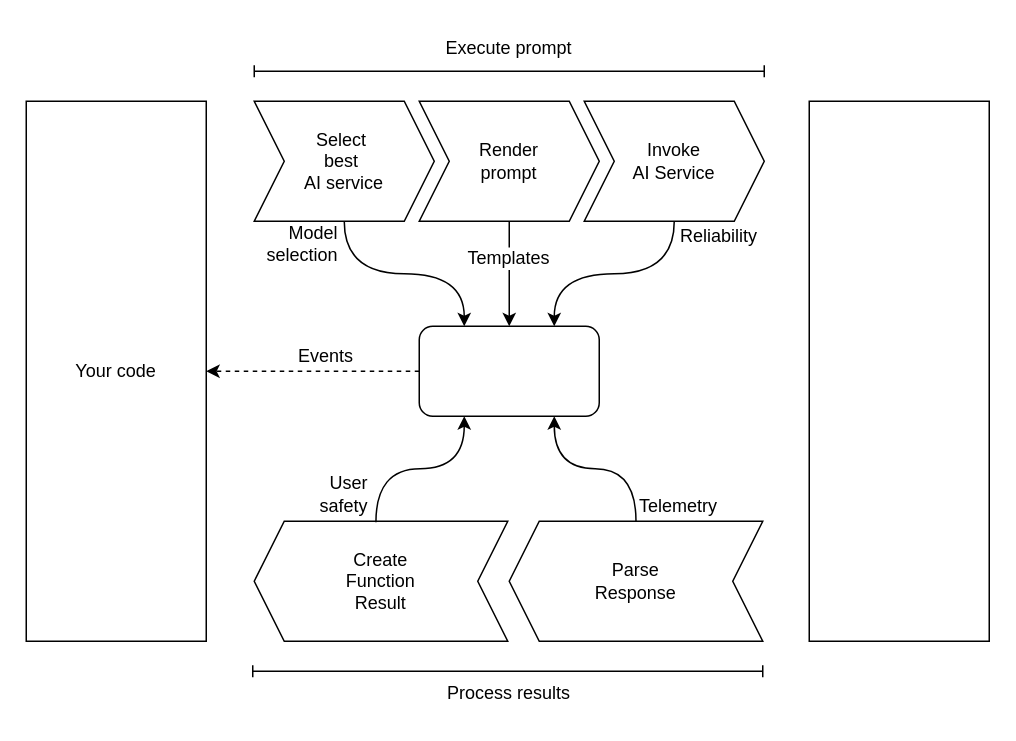
Some shapes in this 1016 by 741 pixel diagram are drawn without their labels. The shapes that lost their labels are listed below. From the top down, each one's centre as x and y in pixels, then its label:
(508,370): Kernel
(898,370): LLM Provider
